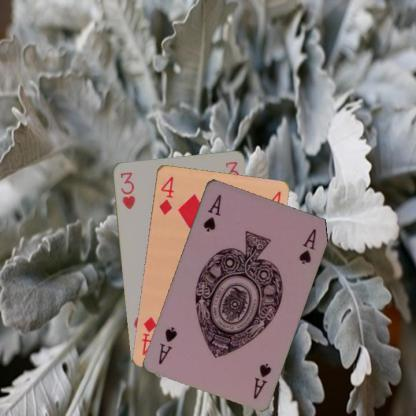3h: (118, 168, 136, 210)
4d: (157, 173, 176, 216)
As: (200, 192, 223, 234), (250, 360, 273, 400)
